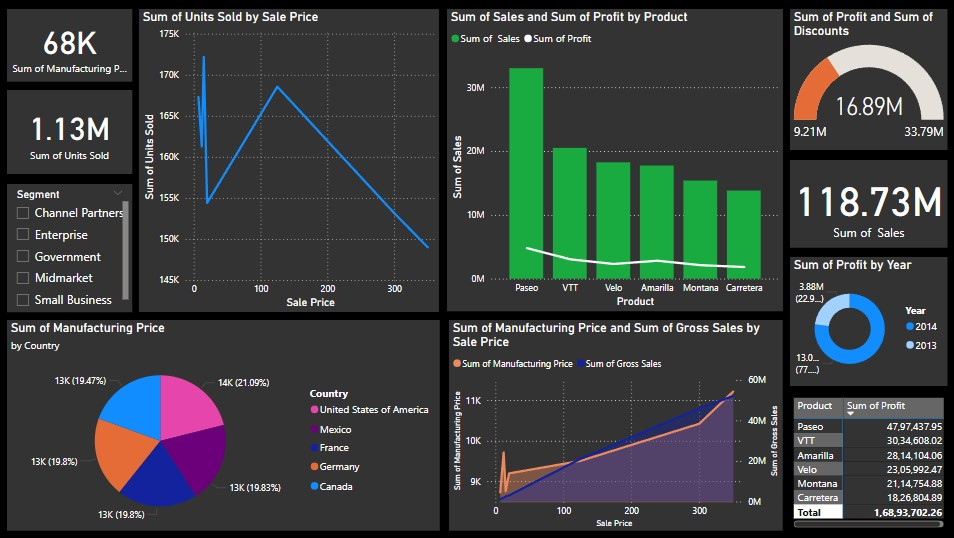

This screenshot's page, from the dashboard's own definition file:
{"tool":"powerbi","page":{"name":"Page 1","canvas":[1280,720],"ordinal":0},"visuals":[{"type":"card","fields":{"Values":["Sum(Sheet1.Manufacturing Price)"]},"box":[13,14.5,166.7,97.1],"z":0},{"type":"card","fields":{"Values":["Sum(Sheet1.Units Sold)"]},"box":[13,123.2,166.7,111.6],"z":1000},{"type":"pieChart","fields":{"Category":["Sheet1.Country"],"Y":["Sum(Sheet1.Manufacturing Price)"]},"box":[13,429,576.8,281.2],"z":2000},{"type":"lineChart","fields":{"Category":["Sheet1.Sale Price"],"Y":["Sum(Sheet1.Units Sold)"]},"box":[189.9,14.5,400,404.3],"z":3000},{"type":"lineStackedColumnComboChart","fields":{"Category":["Sheet1.Product"],"Y2":["Sum(Sheet1.Profit)"],"Y":["Sum(Sheet1. Sales)"]},"box":[600,14.5,447.8,402.9],"z":4000},{"type":"areaChart","fields":{"Category":["Sheet1.Sale Price"],"Y":["Sum(Sheet1.Manufacturing Price)"],"Y2":["Sum(Sheet1.Gross Sales)"]},"box":[602.9,429,444.9,281.2],"z":5000},{"type":"gauge","fields":{"Y":["Sum(Sheet1.Profit)"],"MinValue":["Sum(Sheet1.Discounts)"]},"box":[1058,14.5,210.1,188.4],"z":6000},{"type":"donutChart","fields":{"Category":["Sheet1.Year"],"Y":["Sum(Sheet1.Profit)"]},"box":[1058,344.9,210.1,172.5],"z":7000},{"type":"pivotTable","fields":{"Rows":["Sheet1.Product"],"Values":["Sum(Sheet1.Profit)"]},"box":[1058,527.5,210.1,182.6],"z":8000},{"type":"slicer","fields":{"Values":["Sheet1.Segment"]},"box":[13,247.8,166.7,171],"z":9000},{"type":"card","fields":{"Values":["Sum(Sheet1. Sales)"]},"box":[1058,215.9,210.1,117.4],"z":10000}]}

Visuals, with their boxes in screenshot pixels (x1, y1, x2, y2), scaled from the page's 1280x720 canvas onto the 954x538 screenshot:
card - Sum(Sheet1.Manufacturing Price): bbox(10, 11, 134, 83)
card - Sum(Sheet1.Units Sold): bbox(10, 92, 134, 175)
pieChart - Sheet1.Country x Sum(Sheet1.Manufacturing Price): bbox(10, 321, 440, 531)
lineChart - Sheet1.Sale Price x Sum(Sheet1.Units Sold): bbox(142, 11, 440, 313)
lineStackedColumnComboChart - Sheet1.Product x Sum(Sheet1.Profit): bbox(447, 11, 781, 312)
areaChart - Sheet1.Sale Price x Sum(Sheet1.Manufacturing Price): bbox(449, 321, 781, 531)
gauge - Sum(Sheet1.Profit) x Sum(Sheet1.Discounts): bbox(789, 11, 945, 152)
donutChart - Sheet1.Year x Sum(Sheet1.Profit): bbox(789, 258, 945, 387)
pivotTable - Sheet1.Product x Sum(Sheet1.Profit): bbox(789, 394, 945, 531)
slicer - Sheet1.Segment: bbox(10, 185, 134, 313)
card - Sum(Sheet1. Sales): bbox(789, 161, 945, 249)
